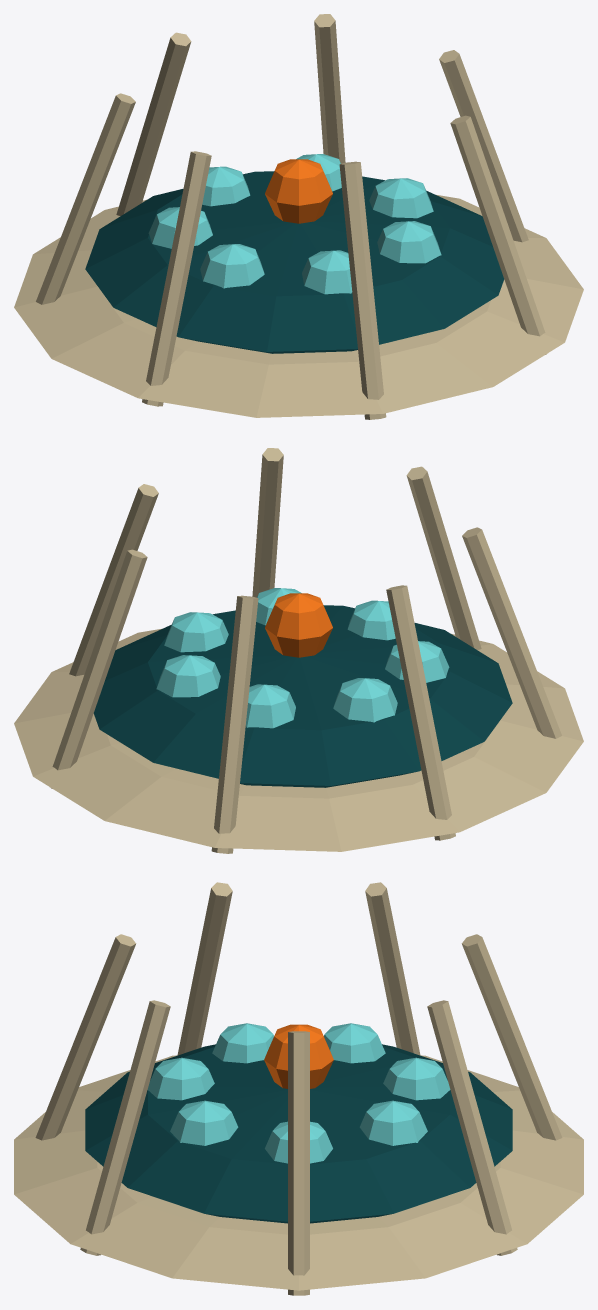
Rendered from civic_first_nursery_a.obj.
The picture shows the model from 3 angles, top to bottom: view 1: azimuth 30°, elevation 25°; view 2: azimuth 150°, elevation 25°; view 3: azimuth 270°, elevation 25°; orthographic projection. The views are drawn at different scales.
Visible parts, largest first — view 1: porous_foot, brood_bowl, canopy_rib_2, canopy_rib_3, canopy_rib_1, canopy_rib_4, canopy_rib_5, nursery_organ, canopy_rib_0, canopy_rib_6, brood_vesicle_3, brood_vesicle_1 (+5 smaller); view 2: porous_foot, brood_bowl, canopy_rib_5, canopy_rib_4, canopy_rib_6, canopy_rib_3, canopy_rib_2, nursery_organ, canopy_rib_0, canopy_rib_1, brood_vesicle_4, brood_vesicle_6 (+5 smaller); view 3: porous_foot, brood_bowl, canopy_rib_0, canopy_rib_1, canopy_rib_6, canopy_rib_2, canopy_rib_5, canopy_rib_3, canopy_rib_4, brood_vesicle_1, brood_vesicle_6, nursery_organ (+5 smaller).
Part boxes in pixels (<box>): porous_foot: <box>14,195,583,417</box>; brood_bowl: <box>85,171,504,353</box>; canopy_rib_2: <box>339,161,386,419</box>; canopy_rib_3: <box>142,151,211,406</box>; canopy_rib_1: <box>450,115,546,354</box>; canopy_rib_4: <box>36,93,135,304</box>; canopy_rib_5: <box>116,32,191,215</box>; nursery_organ: <box>265,159,332,223</box>; canopy_rib_0: <box>439,50,528,242</box>; canopy_rib_6: <box>314,14,345,163</box>; brood_vesicle_3: <box>200,244,264,288</box>; brood_vesicle_1: <box>377,221,441,263</box>; porous_foot: <box>14,629,583,851</box>; brood_bowl: <box>93,605,512,787</box>; canopy_rib_5: <box>211,595,258,853</box>; canopy_rib_4: <box>386,585,455,840</box>; canopy_rib_6: <box>51,549,147,788</box>; canopy_rib_3: <box>462,527,561,738</box>; canopy_rib_2: <box>406,466,481,649</box>; nursery_organ: <box>265,593,332,657</box>; canopy_rib_0: <box>69,484,158,676</box>; canopy_rib_1: <box>252,448,283,597</box>; brood_vesicle_4: <box>333,678,397,722</box>; brood_vesicle_6: <box>156,655,220,697</box>; porous_foot: <box>14,1055,583,1290</box>; brood_bowl: <box>85,1044,512,1223</box>; canopy_rib_0: <box>288,1031,309,1295</box>; canopy_rib_1: <box>80,1000,170,1255</box>; canopy_rib_6: <box>427,1000,517,1255</box>; canopy_rib_2: <box>35,934,136,1140</box>; canopy_rib_5: <box>461,934,562,1140</box>; canopy_rib_3: <box>177,882,232,1055</box>; canopy_rib_4: <box>365,882,420,1055</box>; brood_vesicle_1: <box>170,1100,238,1145</box>; brood_vesicle_6: <box>359,1100,427,1145</box>; nursery_organ: <box>264,1024,333,1088</box>.
Size of the model in its own units: 5.6 by 2.54 by 5.46.
